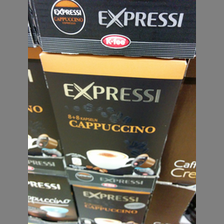coffee: (40, 52, 186, 178)
